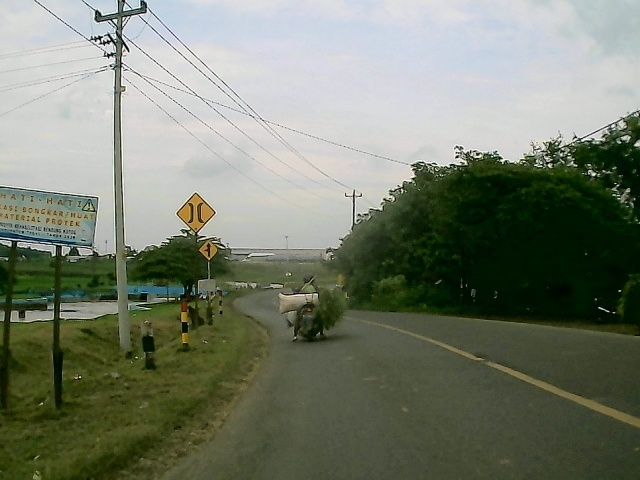Jembatan: (176, 190, 218, 235)
Simpang kiri dengan prioritas: (200, 240, 220, 261)
